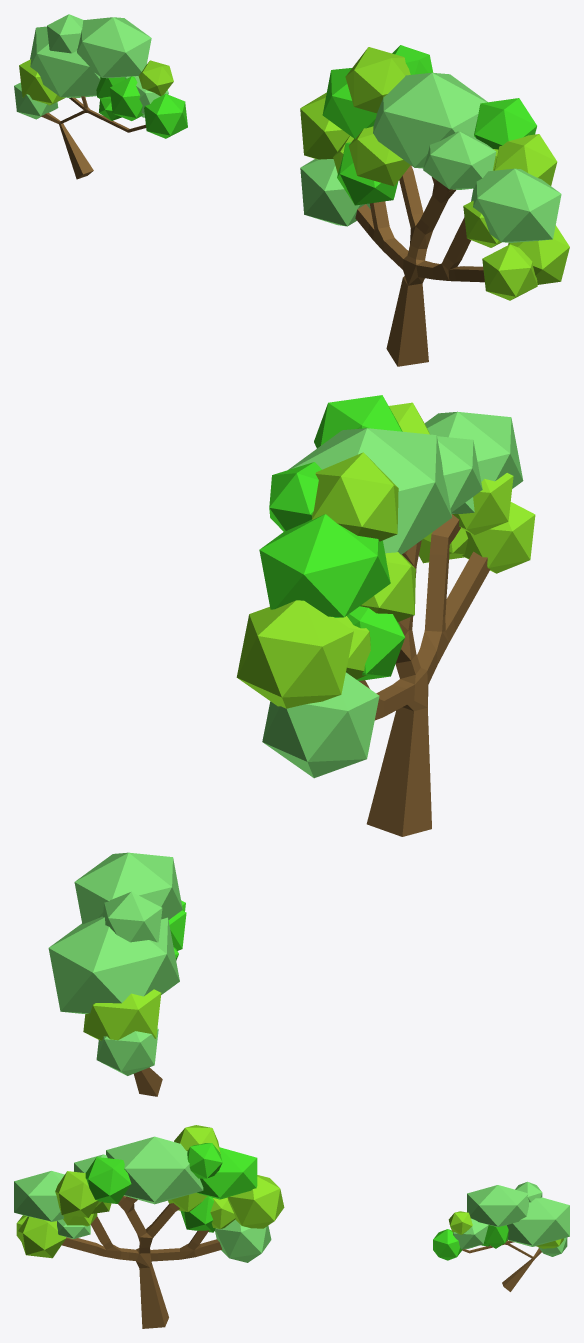
Rendered from bigTREE.fbx.
3 views of the same model, one above another, from view 1: azimuth 30°, elevation 25°; view 2: azimuth 150°, elevation 25°; view 3: azimuth 270°, elevation 25° (orthographic). The views are drawn at different scales.
Visible parts, largest first — view 1: Cube, Icosphere.012, Icosphere.014, Icosphere.007, Icosphere.028, Icosphere.008, Icosphere.016, Icosphere.020, Icosphere.025, Icosphere.015, Icosphere.024, Icosphere.026 (+13 smaller); view 2: Cube, Icosphere.018, Icosphere.011, Icosphere.008, Icosphere.012, Icosphere.016, Icosphere.020, Icosphere.007, Icosphere.014, Icosphere.015, Icosphere.001, Icosphere.019 (+8 smaller); view 3: Cube, Icosphere.012, Icosphere.008, Icosphere.007, Icosphere.011, Icosphere.014, Icosphere.018, Icosphere.025, Icosphere.016, Icosphere.026, Icosphere.027, Icosphere.019 (+12 smaller).
Boxes of the visible parts, x1=… form: Cube: x1=355, y1=165, x2=484, y2=366; Icosphere.012: x1=373, y1=72, x2=487, y2=168; Icosphere.014: x1=471, y1=168, x2=561, y2=242; Icosphere.007: x1=77, y1=17, x2=151, y2=78; Icosphere.028: x1=423, y1=131, x2=496, y2=189; Icosphere.008: x1=30, y1=26, x2=100, y2=98; Icosphere.016: x1=300, y1=159, x2=370, y2=226; Icosphere.020: x1=345, y1=47, x2=410, y2=113; Icosphere.025: x1=474, y1=98, x2=536, y2=149; Icosphere.015: x1=482, y1=244, x2=537, y2=300; Icosphere.024: x1=348, y1=126, x2=410, y2=186; Icosphere.026: x1=494, y1=134, x2=557, y2=185; Cube: x1=359, y1=514, x2=490, y2=836; Icosphere.018: x1=236, y1=600, x2=353, y2=708; Icosphere.011: x1=259, y1=514, x2=390, y2=617; Icosphere.008: x1=48, y1=916, x2=179, y2=1013; Icosphere.012: x1=288, y1=428, x2=451, y2=554; Icosphere.016: x1=262, y1=672, x2=379, y2=778; Icosphere.020: x1=312, y1=452, x2=398, y2=541; Icosphere.007: x1=74, y1=852, x2=182, y2=924; Icosphere.014: x1=425, y1=411, x2=523, y2=513; Icosphere.015: x1=462, y1=502, x2=535, y2=573; Icosphere.001: x1=83, y1=989, x2=161, y2=1040; Icosphere.019: x1=269, y1=462, x2=321, y2=531; Cube: x1=62, y1=1196, x2=222, y2=1328; Icosphere.012: x1=106, y1=1136, x2=203, y2=1204; Icosphere.008: x1=507, y1=1197, x2=569, y2=1246; Icosphere.007: x1=467, y1=1185, x2=528, y2=1226; Icosphere.011: x1=196, y1=1147, x2=257, y2=1199; Icosphere.014: x1=14, y1=1171, x2=64, y2=1221; Icosphere.018: x1=227, y1=1175, x2=284, y2=1228; Icosphere.025: x1=85, y1=1157, x2=131, y2=1203; Icosphere.016: x1=215, y1=1219, x2=271, y2=1262; Icosphere.026: x1=55, y1=1171, x2=98, y2=1217; Icosphere.027: x1=18, y1=1216, x2=66, y2=1258; Icosphere.019: x1=187, y1=1143, x2=222, y2=1178.
Bounding box in the file's own units: 936 × 1255 × 3179.
